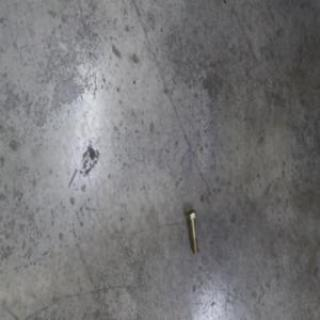Bolttrack_idkeyframe: (182, 208, 196, 255)
